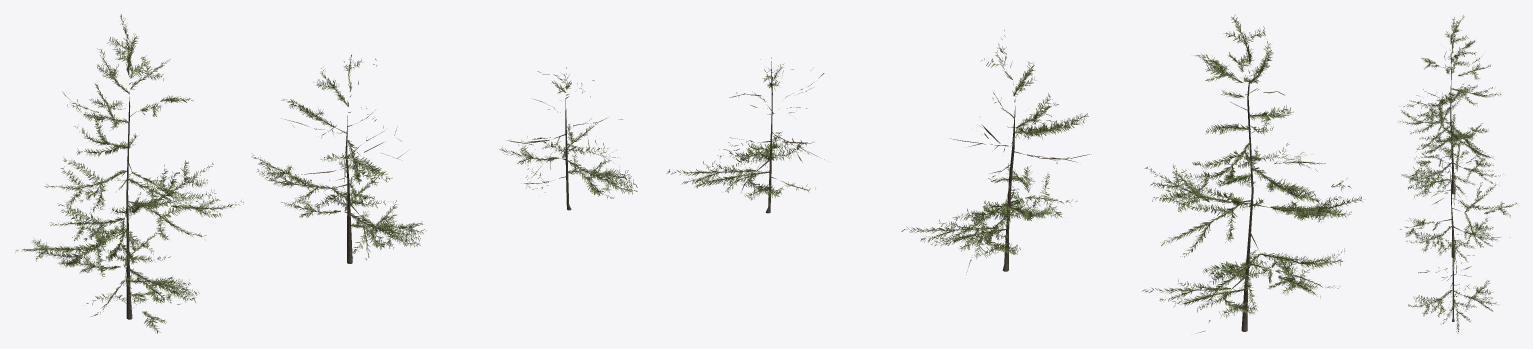
File: fir_sapling.glb
The picture shows the model from 3 angles, left to right: view 1: azimuth 30°, elevation 25°; view 2: azimuth 150°, elevation 25°; view 3: azimuth 270°, elevation 25°; orthographic projection. The views are drawn at different scales.
Visible parts, largest first — view 1: fir_sapling_a; view 2: fir_sapling_a; view 3: fir_sapling_a.
Part boxes in pixels (x1=…): fir_sapling_a: x1=15, y1=14, x2=637, y2=333; fir_sapling_a: x1=666, y1=14, x2=1362, y2=333; fir_sapling_a: x1=1399, y1=15, x2=1516, y2=333.
Bounding box in the file's own units: 2.73 × 1.3 × 0.8115.
Materials: 2 (2 with a texture image).
